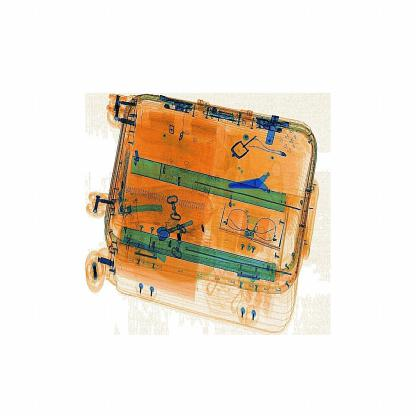gun: (221, 152, 294, 214)
